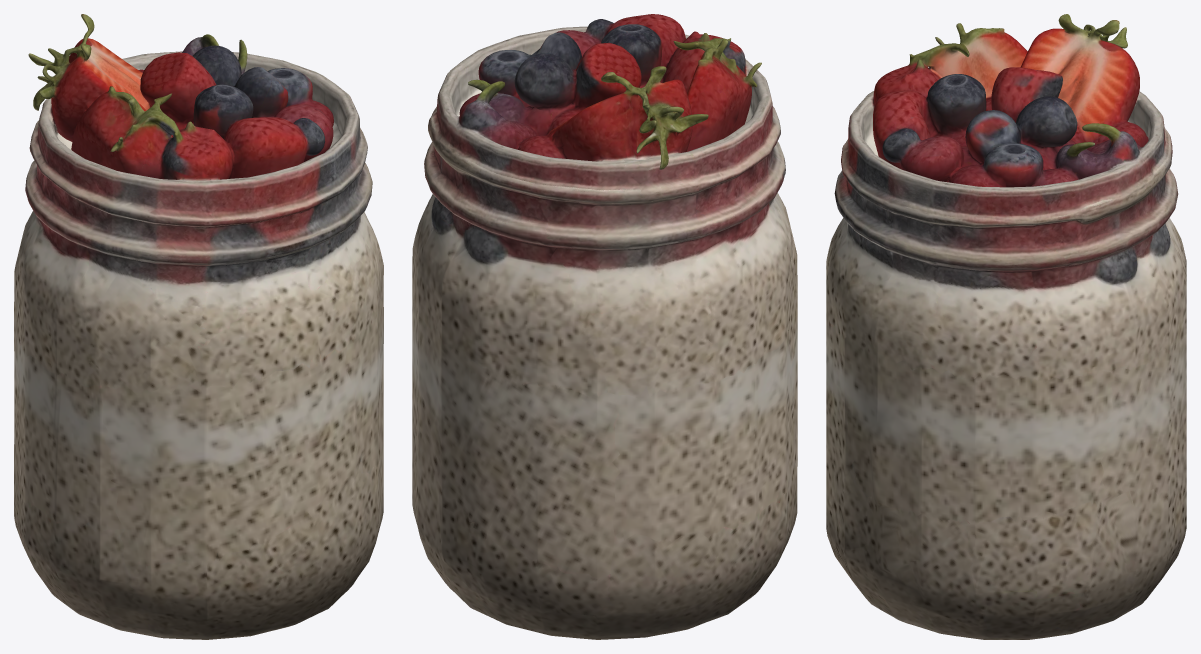
Rendered from Jar.glb.
The picture shows the model from 3 angles, left to right: view 1: azimuth 30°, elevation 25°; view 2: azimuth 150°, elevation 25°; view 3: azimuth 270°, elevation 25°; orthographic projection. The views are drawn at different scales.
Size of the model in its own units: 1.16 by 1.9 by 1.16.
Materials: 1 (1 with a texture image).
